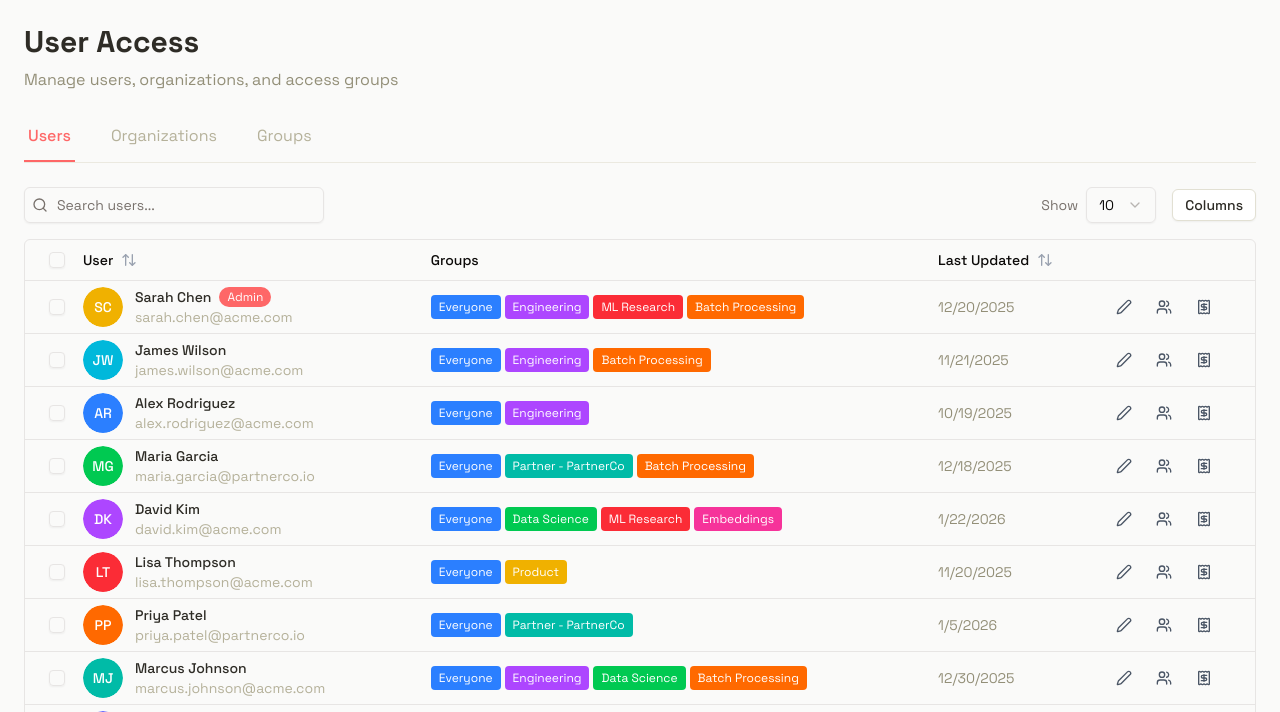
UsersGroups Component › User Management Journey › offers ZDR support without profile, role, or deletion controls
Check: the text "Sarah Chen" is shown, box left=135, top=286, right=212, bottom=306
Click the button named "Edit user" in the row of "Sarah Chen". click: (1124, 306)
box: left=1108, top=290, right=1140, bottom=322
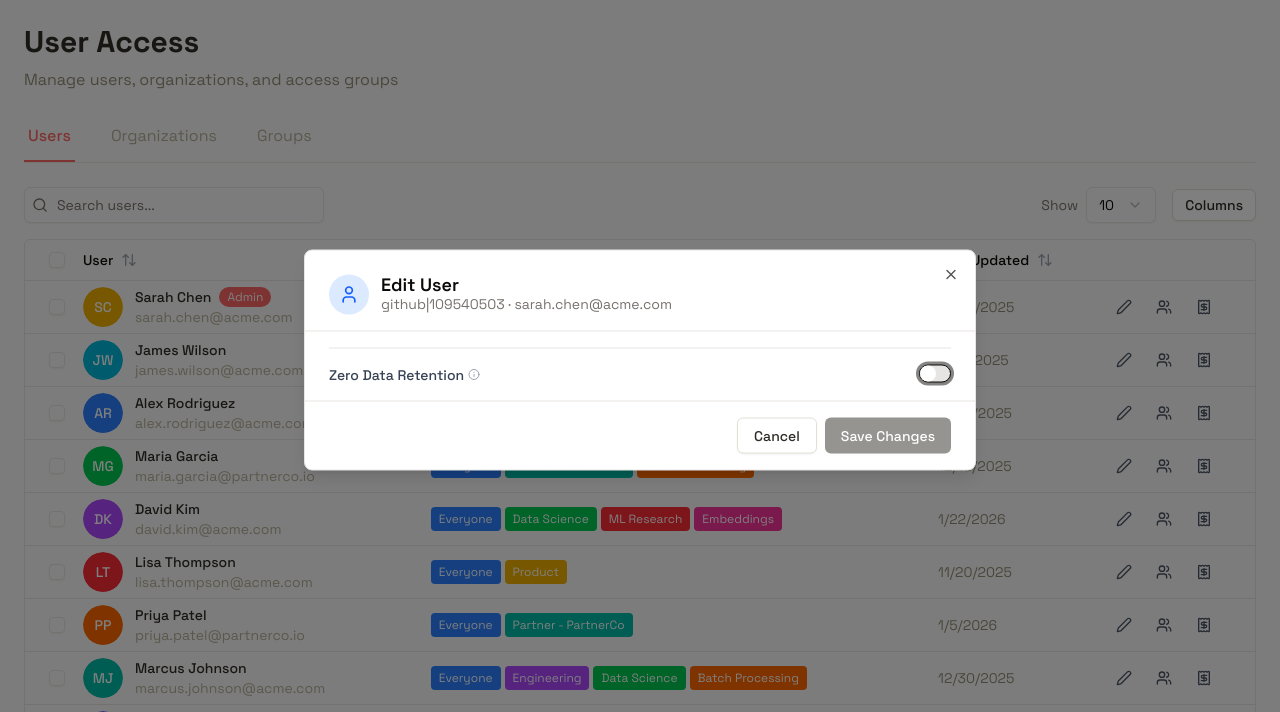
Check: the switch named "zero data retention" is shown, box left=919, top=364, right=951, bottom=383
Click the button "Cancel". click: (777, 436)
box: left=737, top=418, right=817, bottom=454
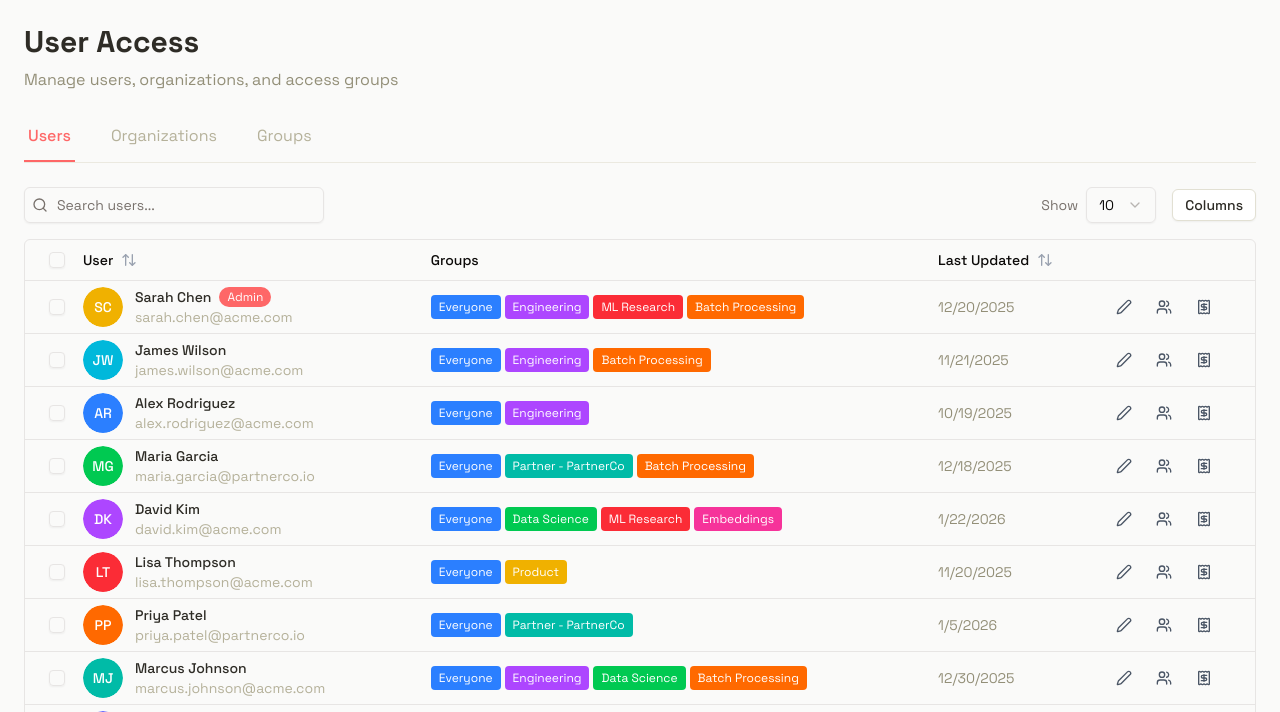
Check: the dialog is gone
